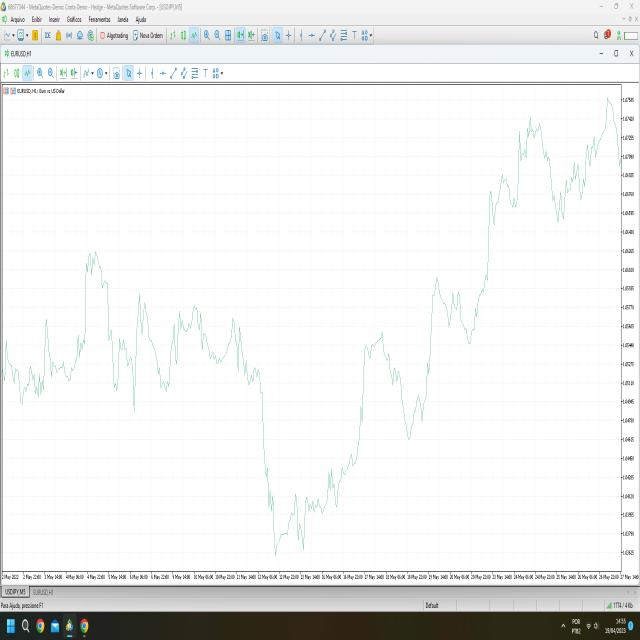bandeira_alta: (421, 266, 473, 471), (480, 163, 513, 348)
